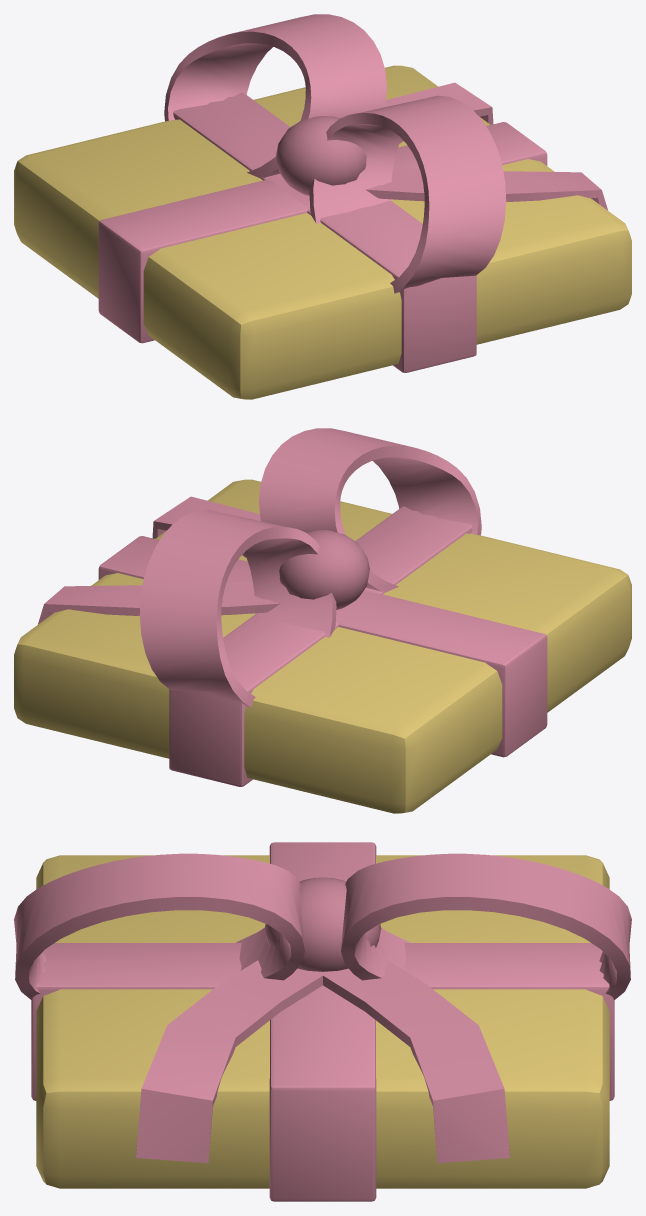
The model's file is GiftLid.fbx.
The picture shows the model from 3 angles, top to bottom: view 1: azimuth 30°, elevation 25°; view 2: azimuth 150°, elevation 25°; view 3: azimuth 270°, elevation 25°; orthographic projection. The views are drawn at different scales.
Visible parts, largest first — view 1: GiftLid; view 2: GiftLid; view 3: GiftLid.
Boxes of the visible parts, box(x1,y1,x2,y2) form: GiftLid: box(14, 14, 631, 399); GiftLid: box(14, 428, 631, 813); GiftLid: box(14, 842, 631, 1201).
Bounding box in the file's own units: 0.2484 × 0.1079 × 0.2543.
